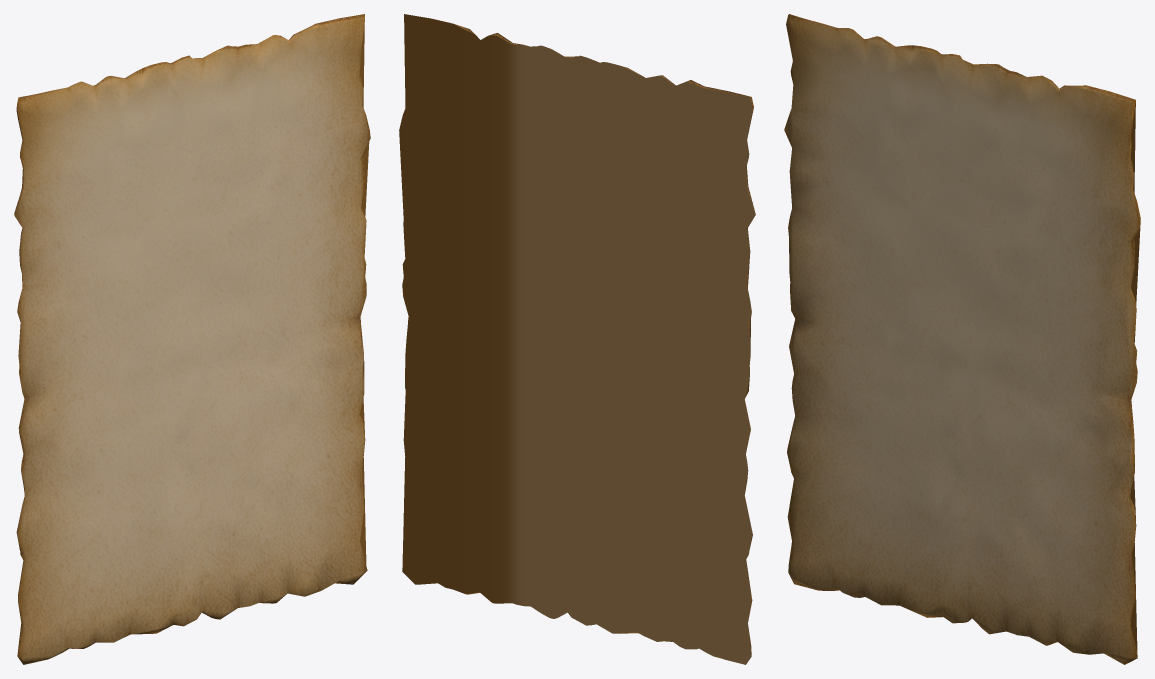
The model's file is Map.fbx.
3 views of the same model, side by side, from view 1: azimuth 30°, elevation 25°; view 2: azimuth 150°, elevation 25°; view 3: azimuth 330°, elevation 25° (orthographic).
Parts seen in each view (by area): view 1: material_0; view 2: material_0; view 3: material_0.
Part boxes in pixels (bbox=[...]): material_0: bbox=[14, 14, 370, 664]; material_0: bbox=[399, 14, 755, 664]; material_0: bbox=[784, 14, 1140, 664].
Bounding box in the file's own units: 64.89 × 99.61 × 0.7774.
1 material, 1 textured.
